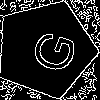G: (20, 24, 79, 77)
